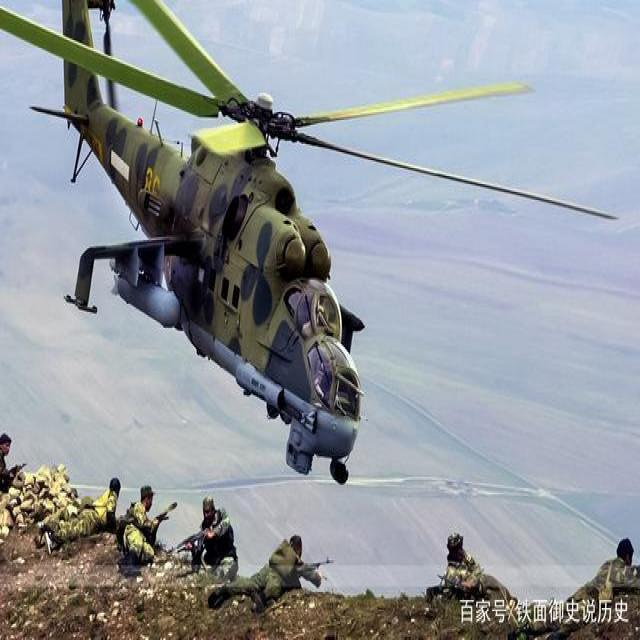MIL_HELO: (0, 0, 626, 462)
